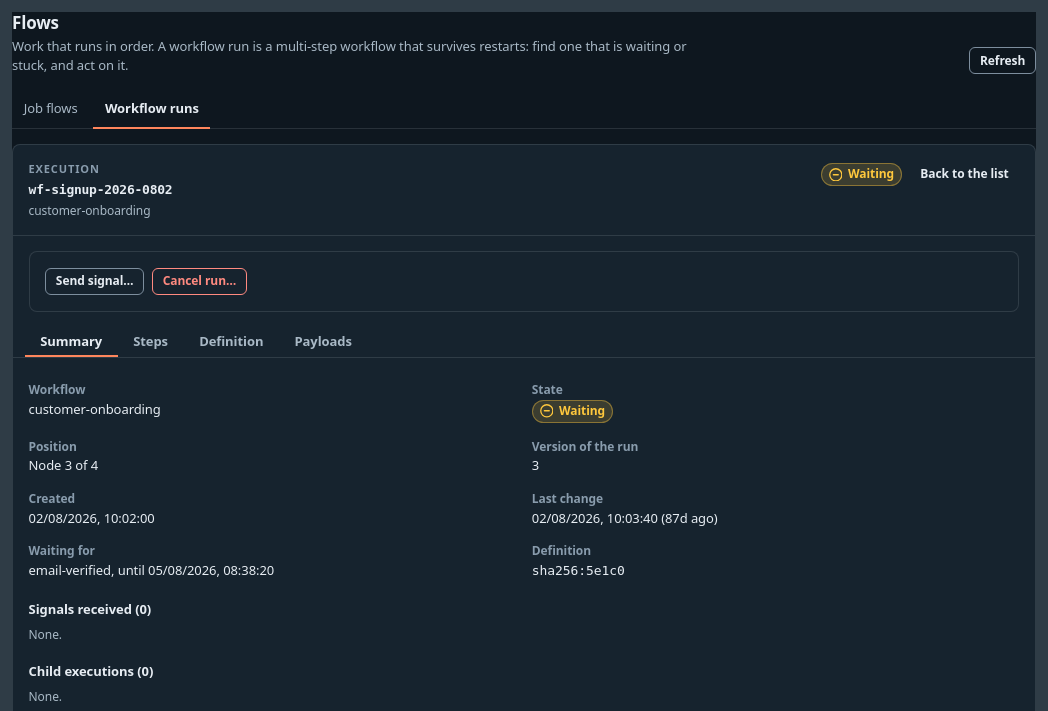
workflow actions: signal › a payload that is not JSON is refused before anything is sent
Step 1. Click the button "Send signal…" → [95, 281], box [45,268,144,295]
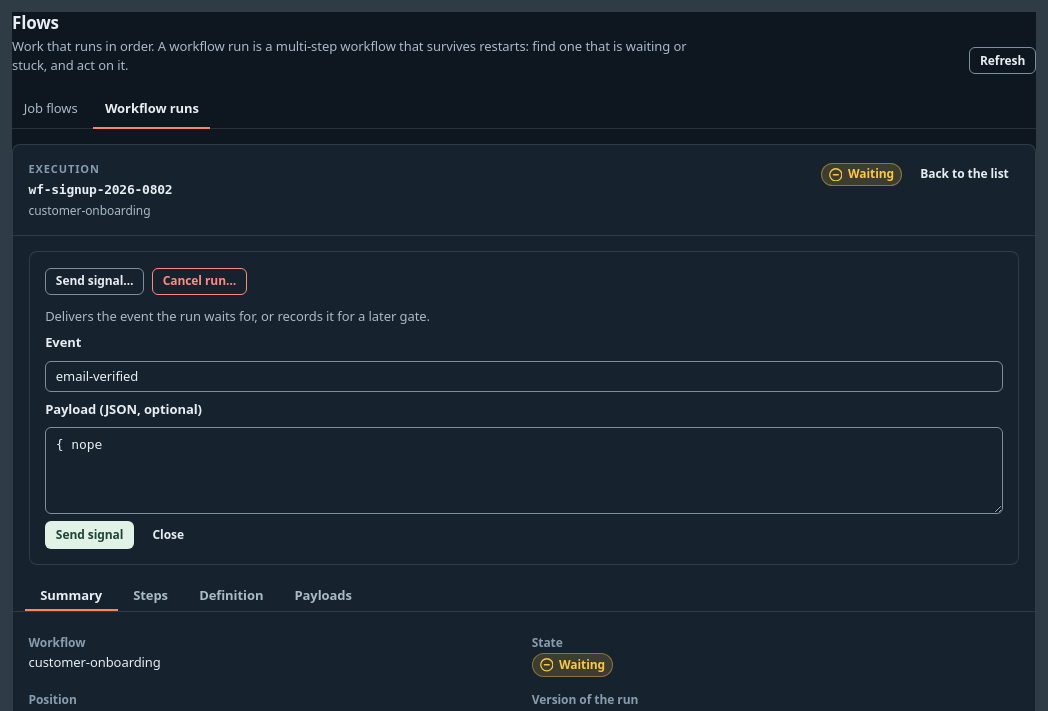
Step 2. Submit the form, box [45,307,1003,549]
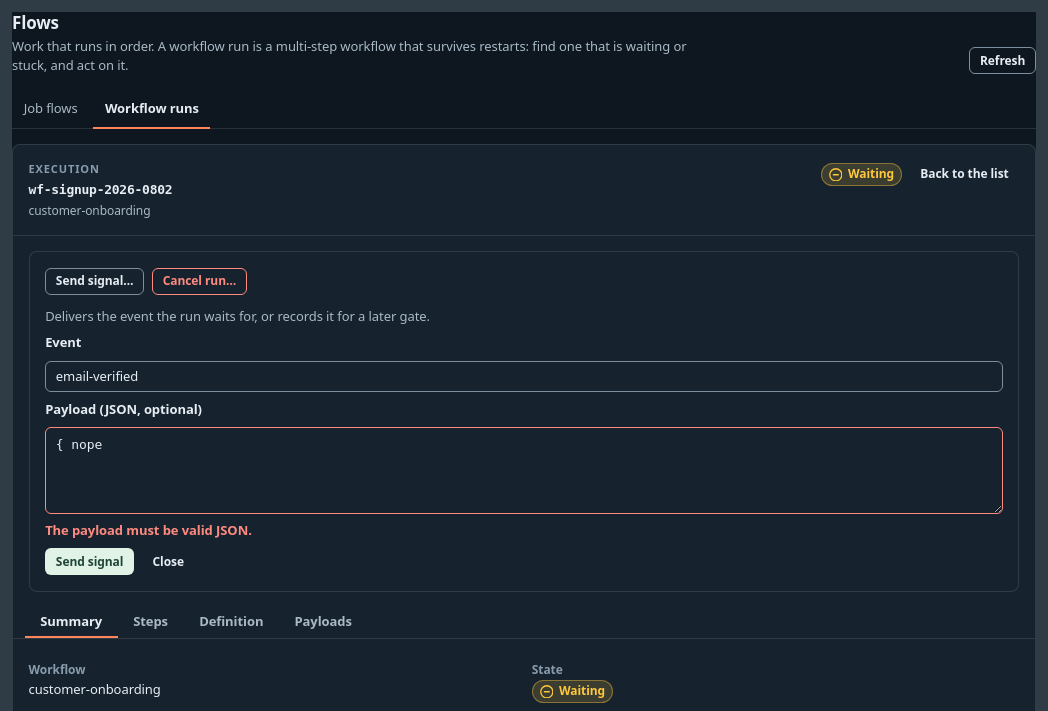
Check: the message "The payload must be valid JSON." is shown, box [45,521,252,539]
